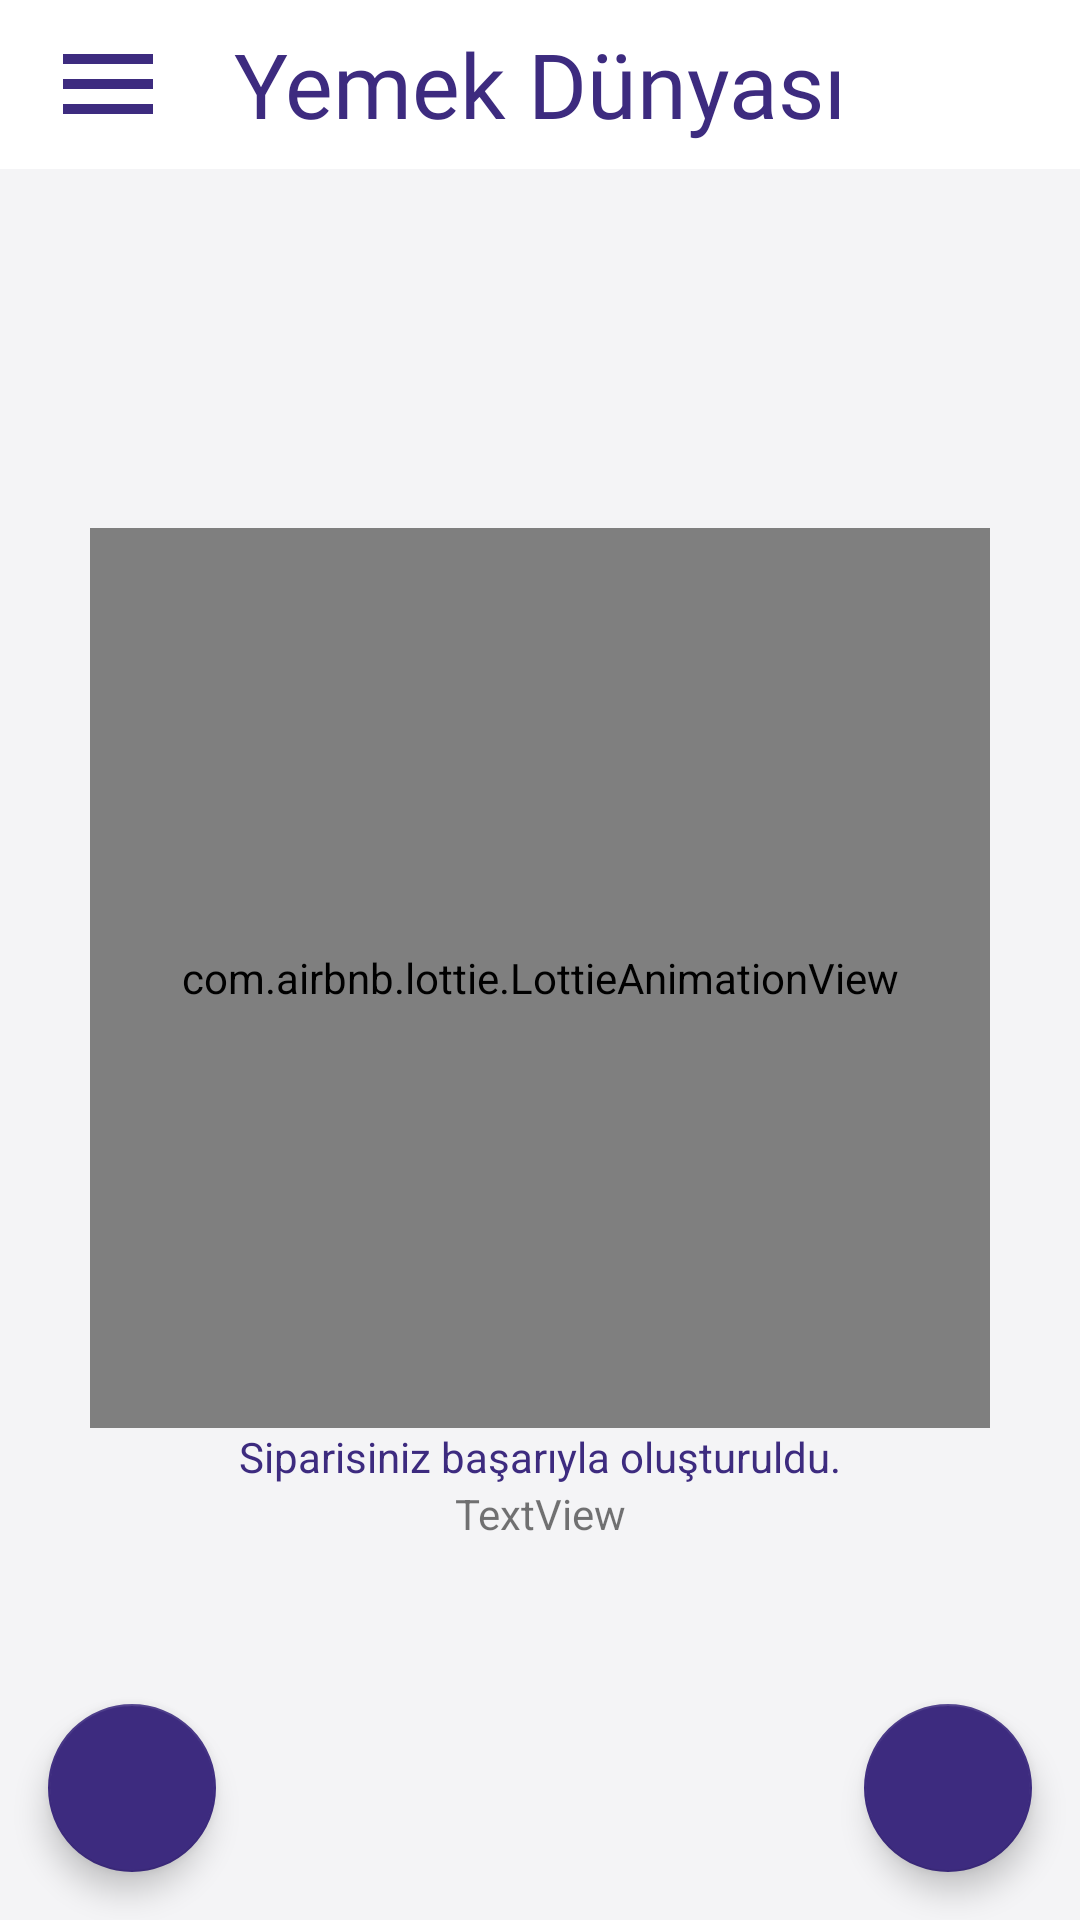

Where to tap for icons on this 1080px x 1920px app screen, as (x=x, y=y):
menu: (x=108, y=84)
